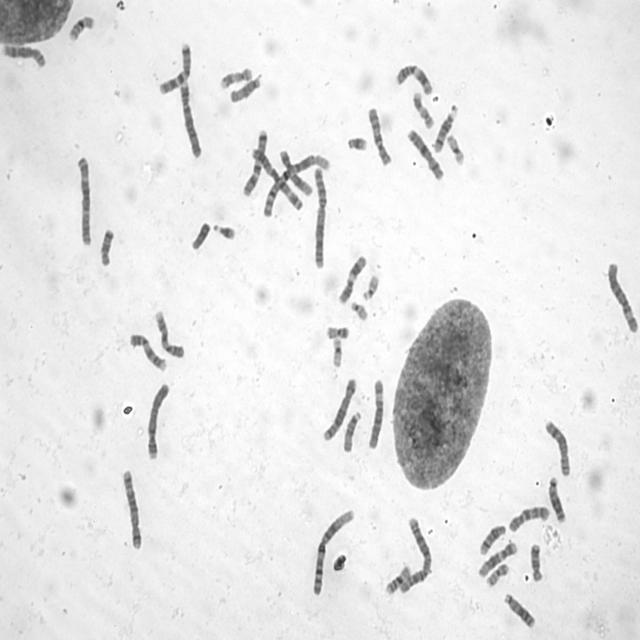A1: (260, 154, 332, 218), (311, 508, 355, 600)
A2: (399, 517, 433, 594), (313, 166, 327, 270)
A3: (249, 147, 304, 212), (74, 154, 94, 250)
B4: (146, 381, 171, 462), (180, 80, 202, 160)
B5: (321, 376, 357, 442), (120, 466, 143, 553)
C10: (367, 106, 393, 168), (507, 504, 551, 534)
C11: (336, 254, 368, 307), (395, 64, 433, 96)
C12: (278, 149, 313, 197), (476, 542, 520, 580)
C6: (608, 262, 638, 335), (365, 378, 385, 451)
C7: (240, 128, 268, 200), (157, 42, 192, 96)
C8: (544, 420, 570, 476), (2, 44, 46, 68)
C9: (128, 331, 167, 374), (154, 307, 185, 358)
D13: (503, 592, 537, 630), (546, 476, 567, 524)
D14: (433, 104, 459, 154), (479, 522, 506, 556)
D15: (341, 409, 362, 453), (228, 78, 261, 104)
E16: (385, 564, 412, 596), (68, 14, 96, 44)
E17: (412, 90, 435, 130), (218, 68, 254, 90)
E18: (97, 229, 116, 270), (530, 542, 544, 582)
F19: (446, 132, 466, 167), (330, 336, 342, 368)
F20: (485, 564, 510, 586), (327, 322, 351, 340)
G21: (212, 222, 236, 244), (346, 134, 368, 154)
G22: (361, 274, 381, 302), (349, 301, 369, 322)
X: (406, 128, 445, 183)
Y: (190, 219, 210, 254)
